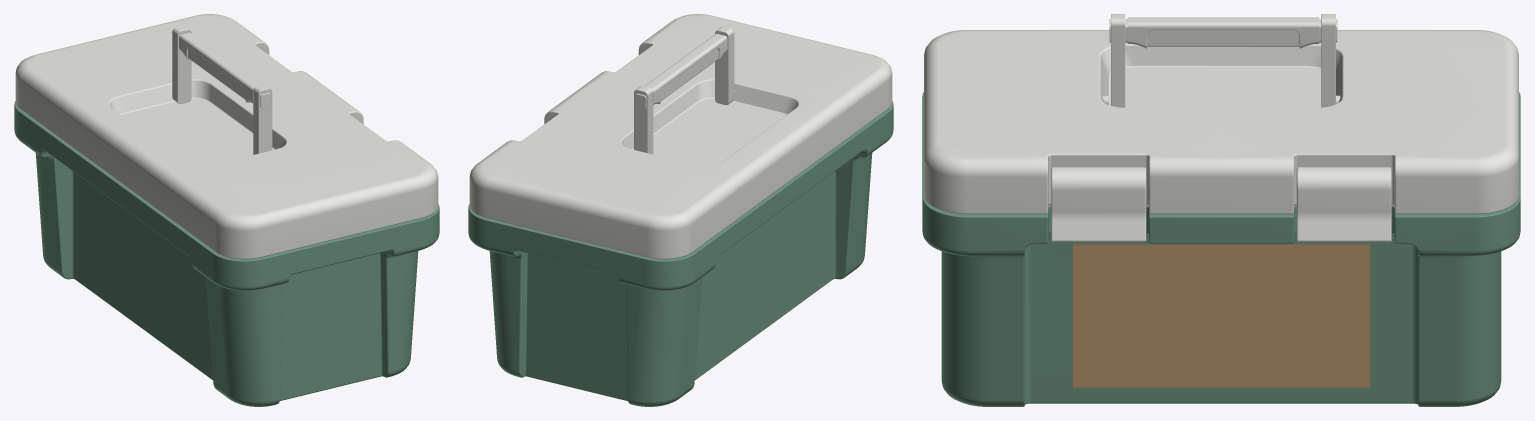
The model's file is safety_firstAidKit_box_plastic_a01.glb.
3 renders of one model, left to right at view 1: azimuth 30°, elevation 25°; view 2: azimuth 150°, elevation 25°; view 3: azimuth 270°, elevation 25°, orthographic. The views are drawn at different scales.
Bounding box in the file's own units: 0.2348 × 0.2564 × 0.4143.
